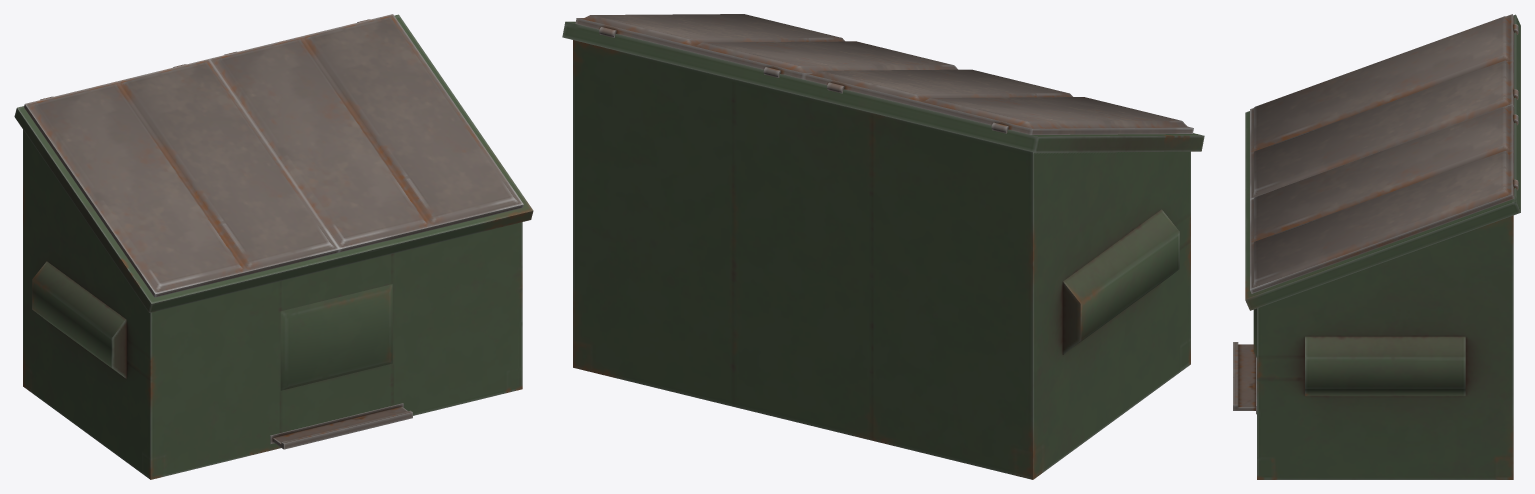
Rendered from SM_Props_Trash_01.glb.
The picture shows the model from 3 angles, left to right: view 1: azimuth 30°, elevation 25°; view 2: azimuth 150°, elevation 25°; view 3: azimuth 270°, elevation 25°; orthographic projection. The views are drawn at different scales.
Visible parts, largest first — view 1: SM_Trash_01; view 2: SM_Trash_01; view 3: SM_Trash_01.
Part boxes in pixels (x1,y1,x2,y2): SM_Trash_01: (14,14,533,479); SM_Trash_01: (562,14,1204,479); SM_Trash_01: (1233,14,1520,479).
Size of the model in its own units: 2 by 1.35 by 1.23.
1 material, 1 textured.
